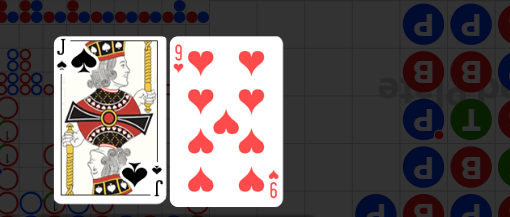9H: (267, 169, 280, 200)
JS: (55, 38, 99, 85), (122, 159, 166, 205)
